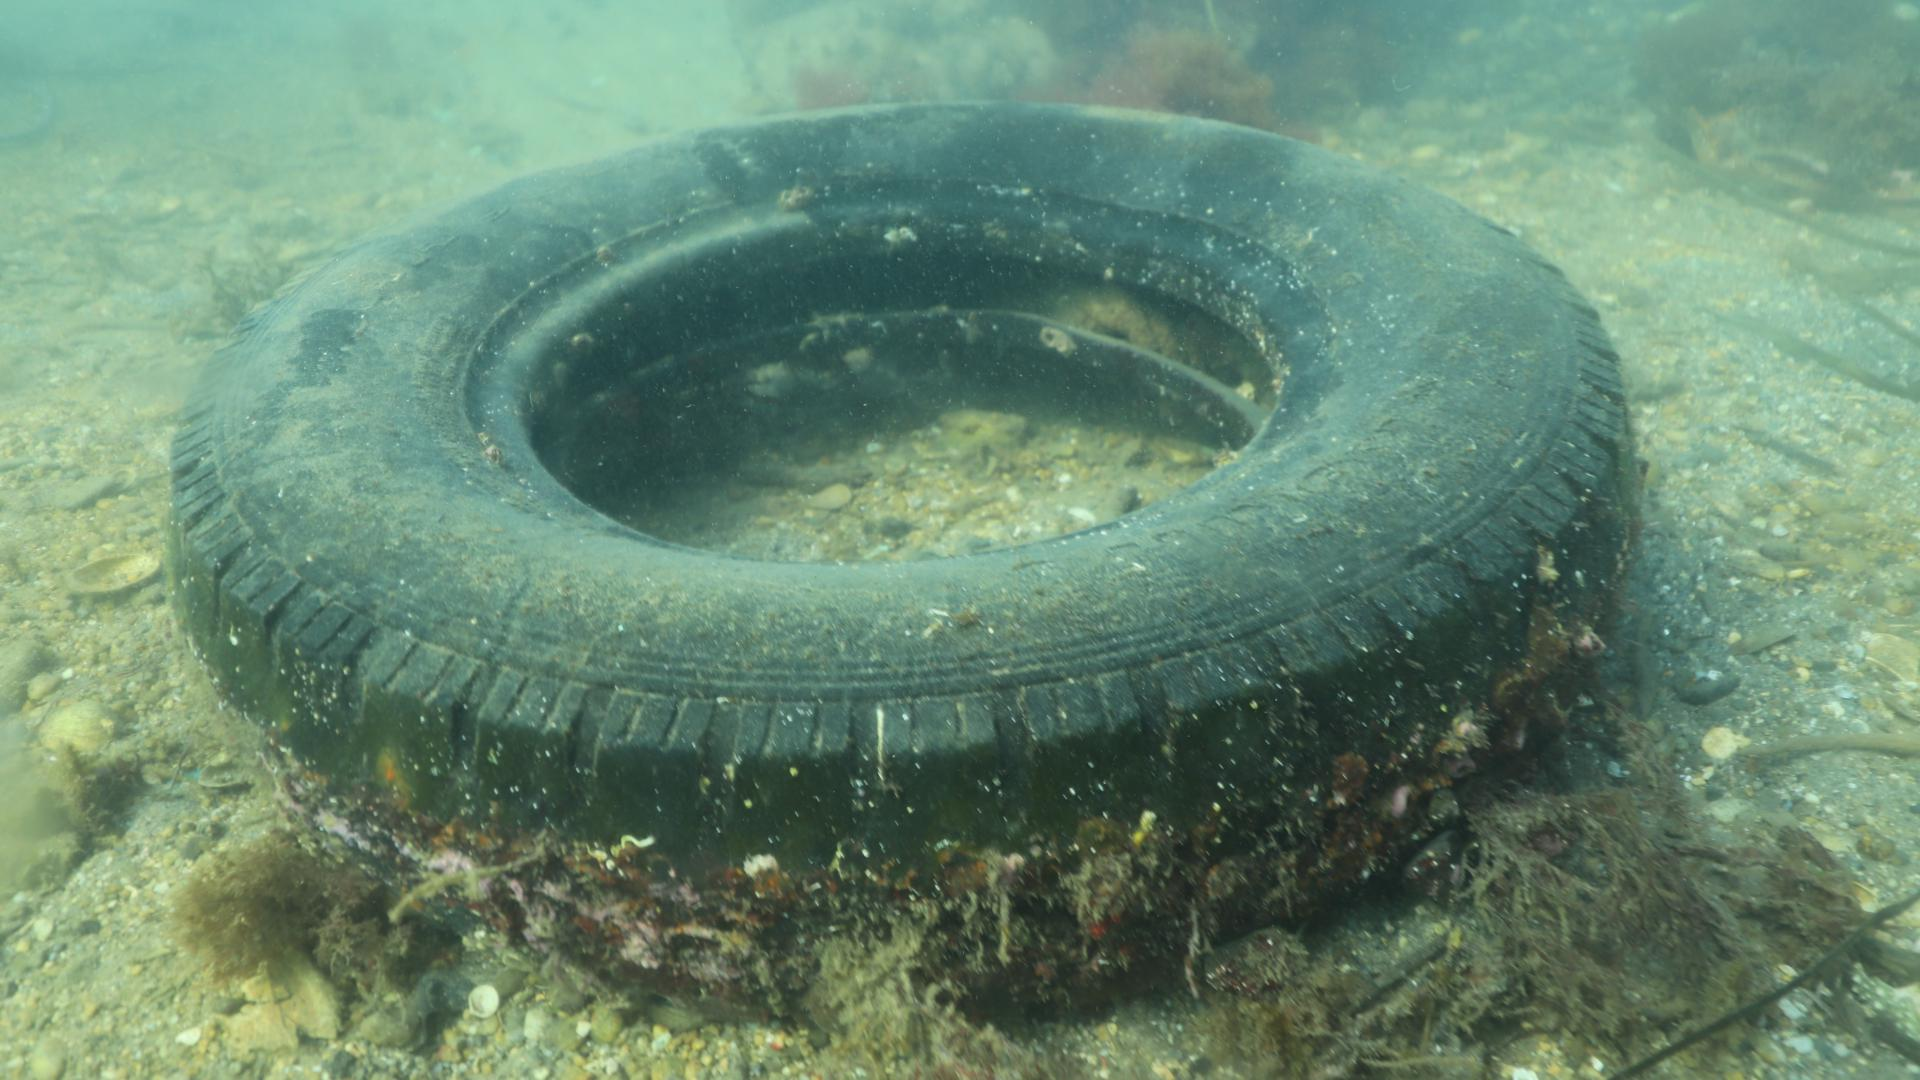tire: (169, 100, 1638, 1027)
